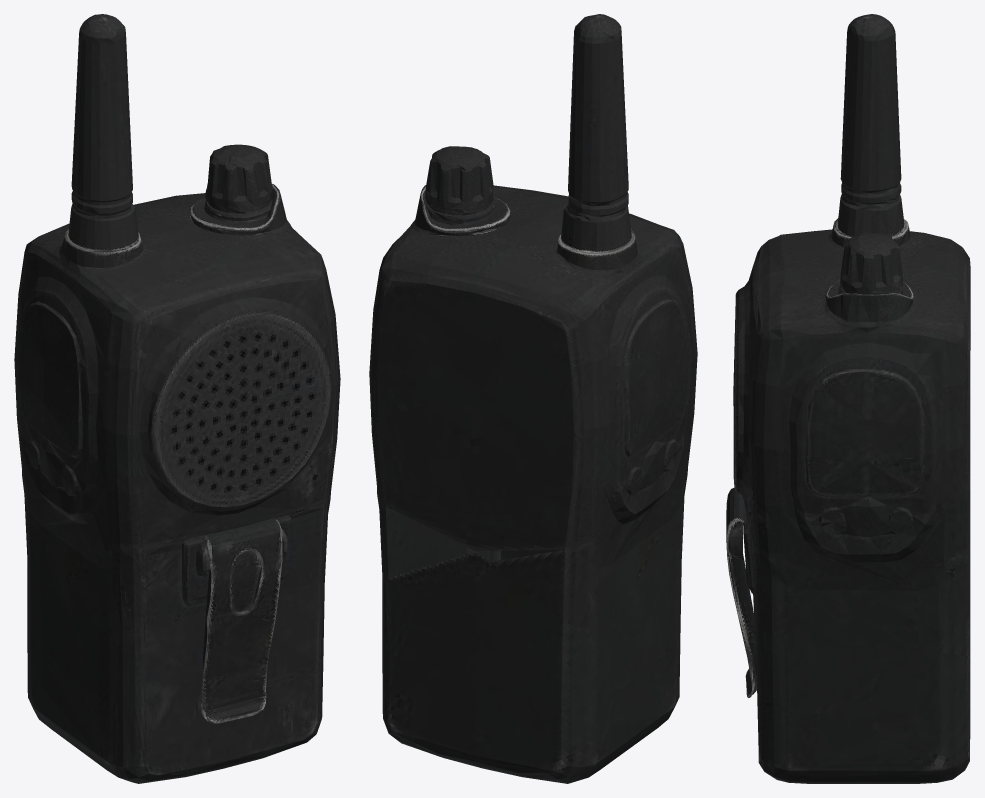
Rendered from ewm_walkietalkie.glb.
3 renders of one model, left to right at view 1: azimuth 30°, elevation 25°; view 2: azimuth 150°, elevation 25°; view 3: azimuth 270°, elevation 25°, orthographic. The views are drawn at different scales.
Parts seen in each view (by area): view 1: ewm_walkietalkie; view 2: ewm_walkietalkie; view 3: ewm_walkietalkie.
Part boxes in pixels (left/top/right/bottom): ewm_walkietalkie: left=14, top=14, right=340, bottom=783; ewm_walkietalkie: left=369, top=14, right=697, bottom=783; ewm_walkietalkie: left=726, top=14, right=970, bottom=783.
Bounding box in the file's own units: 0.0629 × 0.17 × 0.0538.
Materials: 1 (1 with a texture image).
